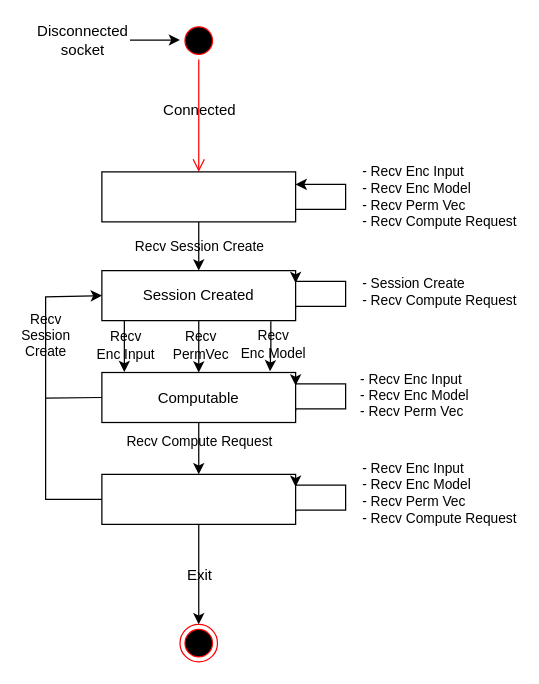
Image size: 539x684. Some labels were removed from this diagram. The box of each missing label's shape, as (x1, y1, x2, y2) in pixels:
Computing: (101, 473, 296, 524)
Ready: (101, 171, 296, 222)
